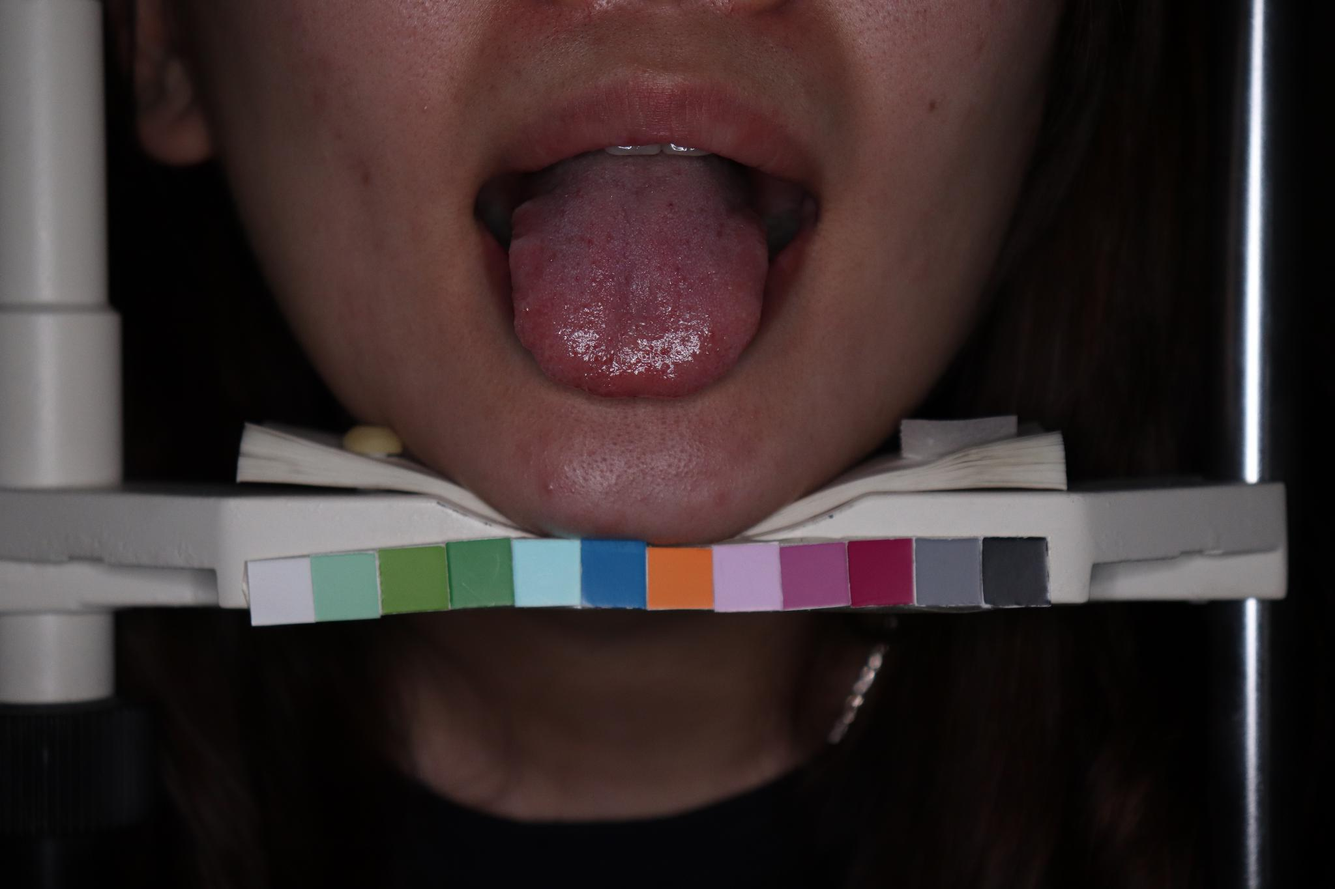baitaishe: (506, 156, 769, 399)
chihenshe: (506, 196, 550, 310)
hongshe: (507, 157, 770, 400)
